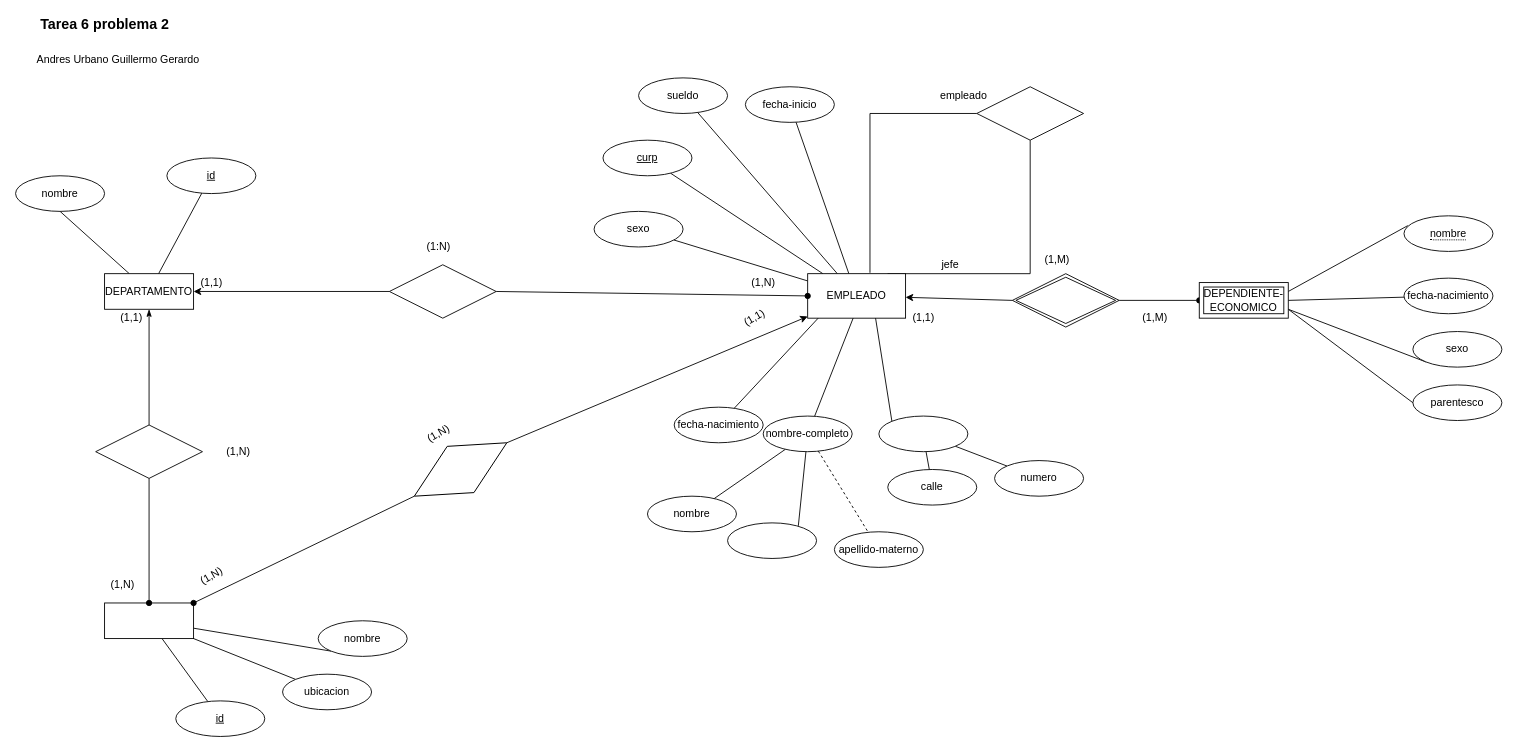
The diagram is 1517 pixels wide and 752 high, and some of its shapes have lost their labels. Each missing label, with the box of its shape:
apellido-paterno: (727, 522, 817, 558)
asignado: (388, 264, 496, 318)
controla: (95, 424, 202, 478)
direccion: (878, 415, 968, 452)
dirige: (976, 86, 1084, 140)
PROYECTOS: (104, 602, 194, 639)
tiene: (1011, 273, 1119, 327)
trabaja: (400, 419, 520, 519)
